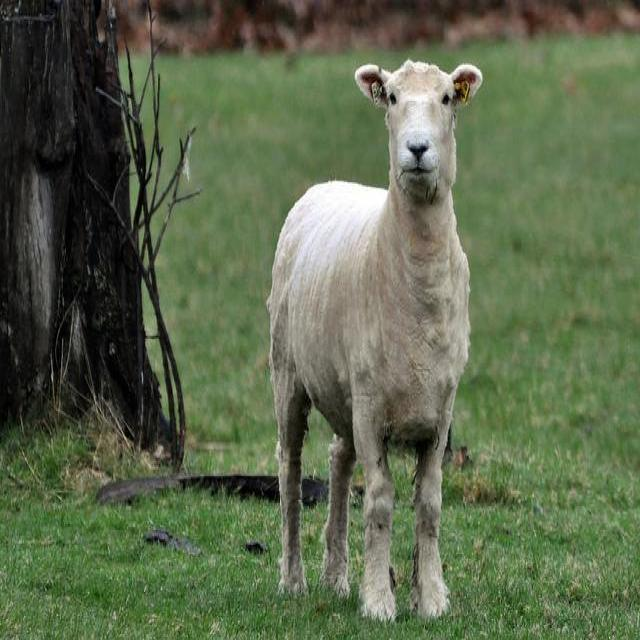Sheep: (269, 57, 485, 625)
